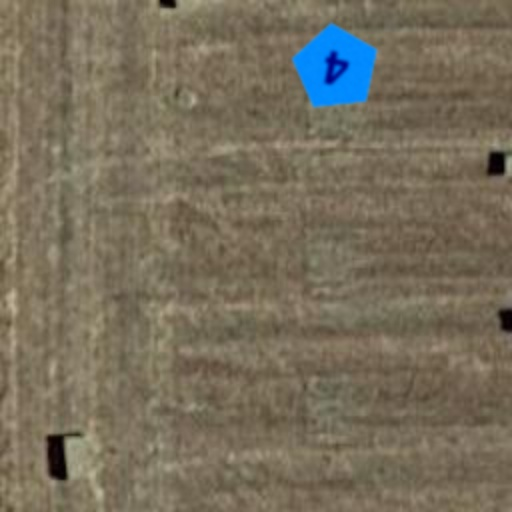pentagon: (282, 14, 390, 122)
